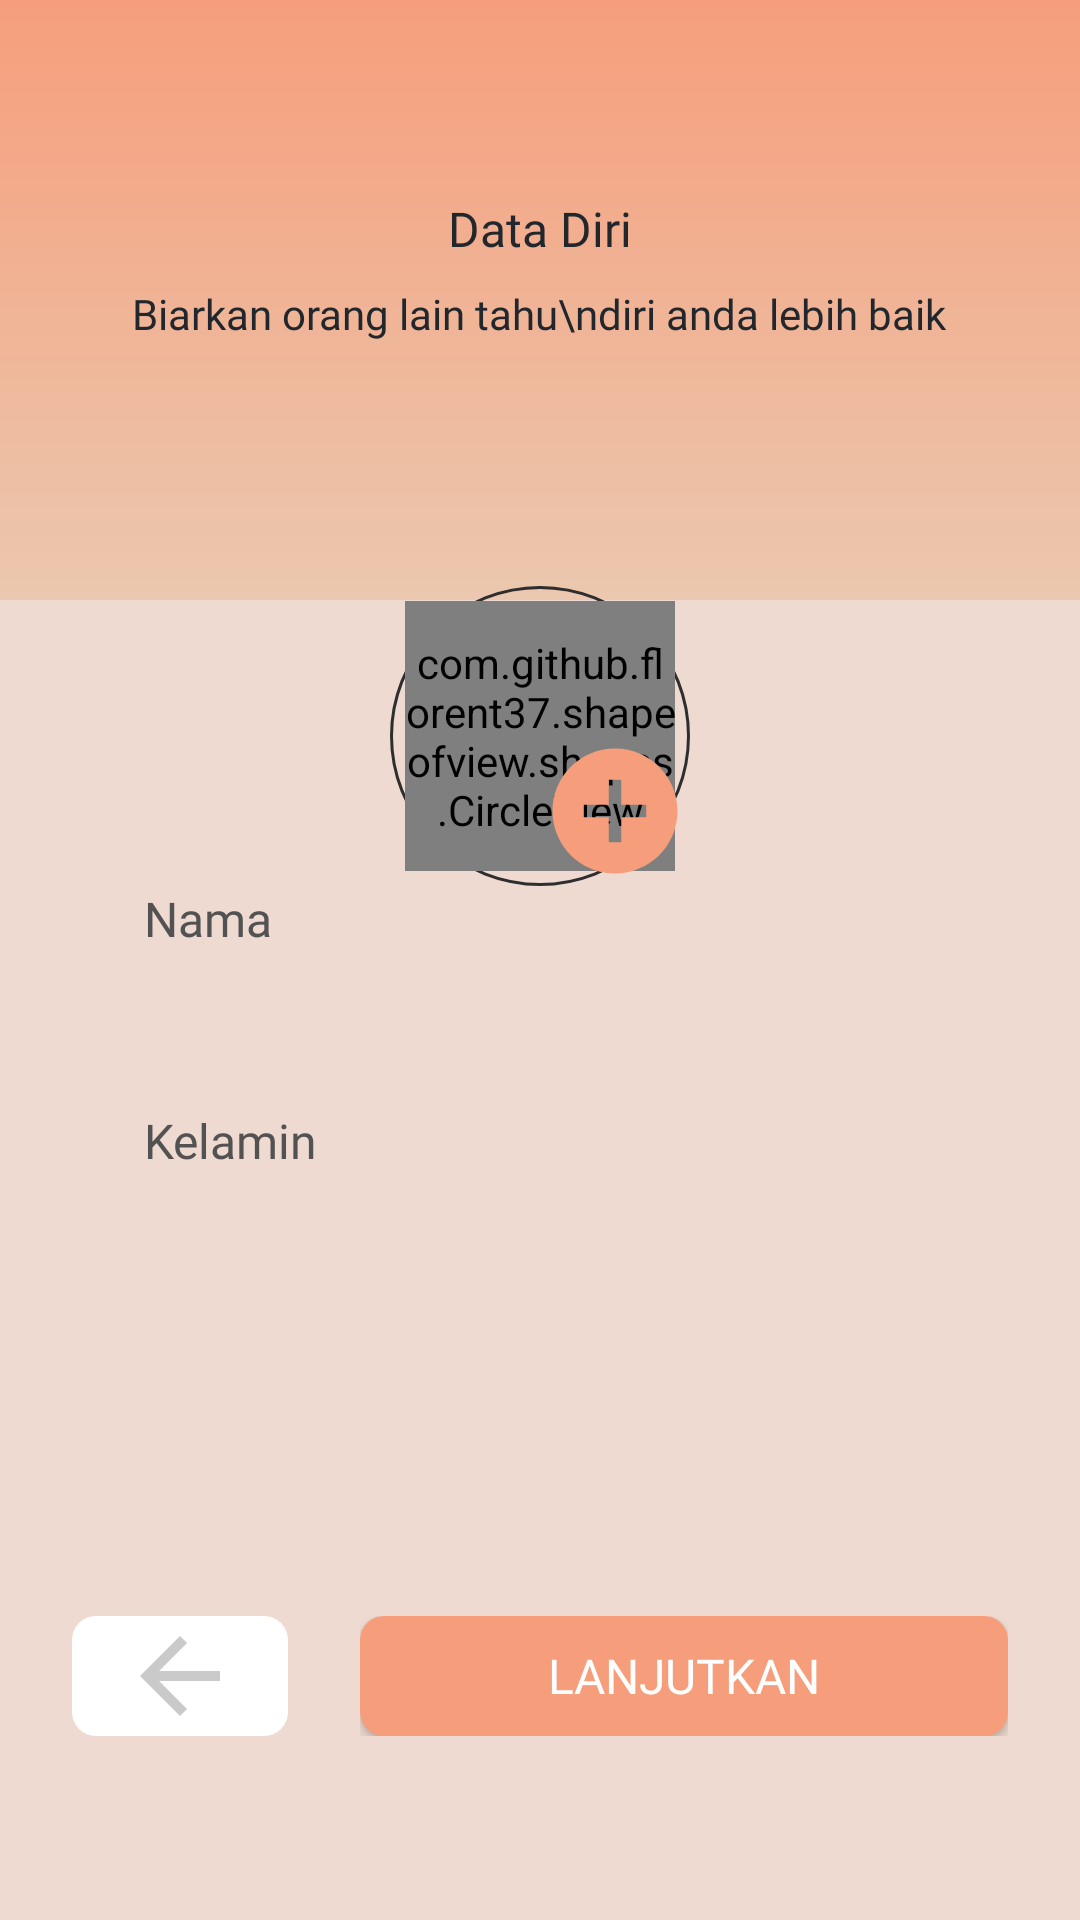

Screen size 1080 x 1920. Icon name, then its center in pixels as (x=x, y=y):
add profil photo: (x=615, y=811)
back: (x=180, y=1676)
